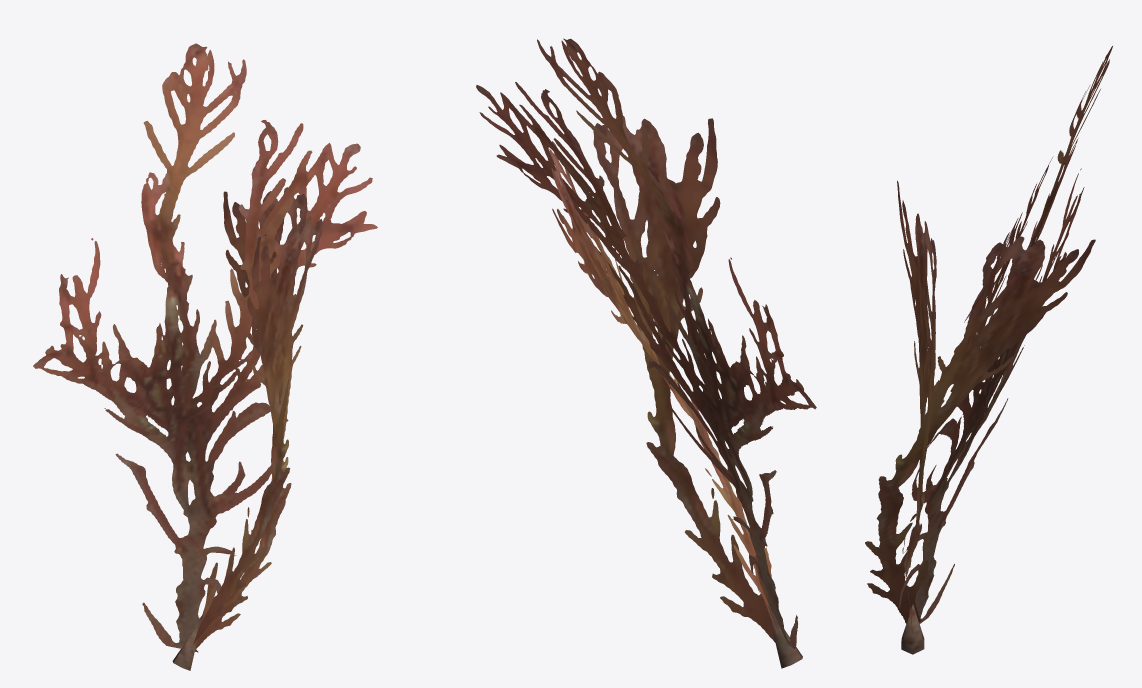
Rendered from seaweed_1_2.FBX.
3 views of the same model, side by side, from view 1: azimuth 30°, elevation 25°; view 2: azimuth 150°, elevation 25°; view 3: azimuth 270°, elevation 25° (orthographic). The views are drawn at different scales.
Parts seen in each view (by area): view 1: seaweed_1_02; view 2: seaweed_1_02; view 3: seaweed_1_02.
Boxes of the visible parts, x1,y1,x2,y2 form: seaweed_1_02: (33, 43, 377, 670); seaweed_1_02: (476, 38, 816, 668); seaweed_1_02: (865, 46, 1112, 654).
Bounding box in the file's own units: 16.18 × 25.25 × 8.91.
1 material, 1 textured.
